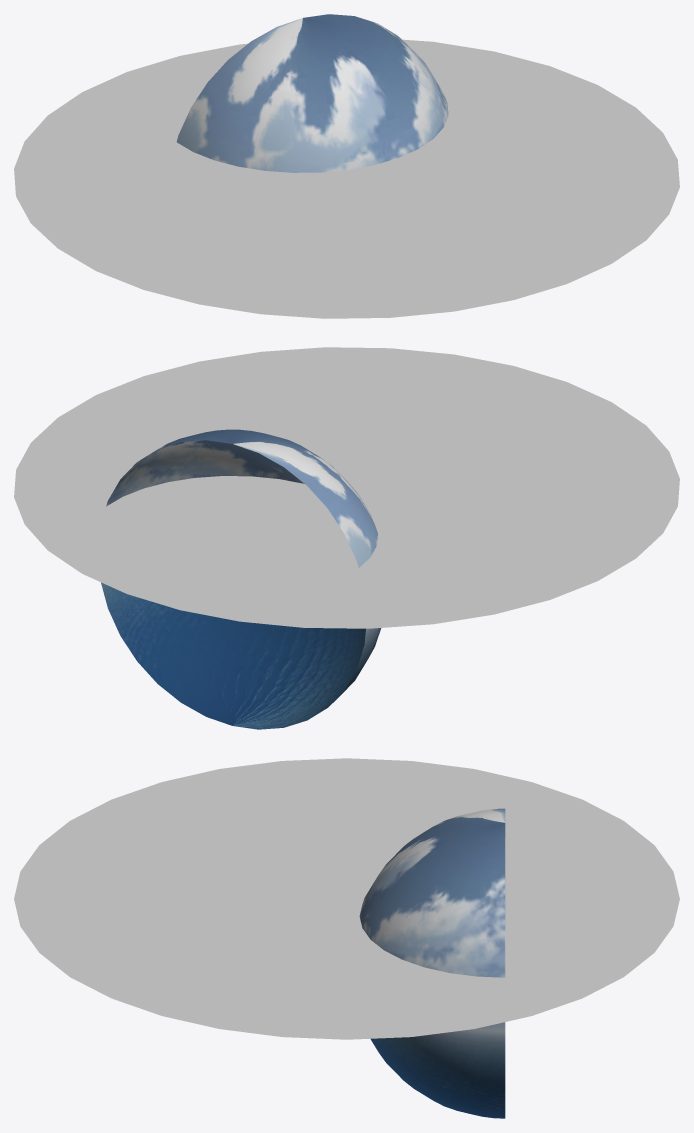
File: stageProb.fbx
3 renders of one model, top to bottom at view 1: azimuth 30°, elevation 25°; view 2: azimuth 150°, elevation 25°; view 3: azimuth 270°, elevation 25°, orthographic.
Parts seen in each view (by area): view 1: WaterProDaytime_01, skySphere; view 2: WaterProDaytime_01, skySphere; view 3: WaterProDaytime_01, skySphere.
Part boxes in pixels (x1,y1,x2,y2): WaterProDaytime_01: (14,39,679,318); skySphere: (176,14,448,172); WaterProDaytime_01: (14,347,679,628); skySphere: (101,429,381,729); WaterProDaytime_01: (14,758,679,1039); skySphere: (359,808,505,1118).
Size of the model in its own units: 500000 by 233072 by 500000.
